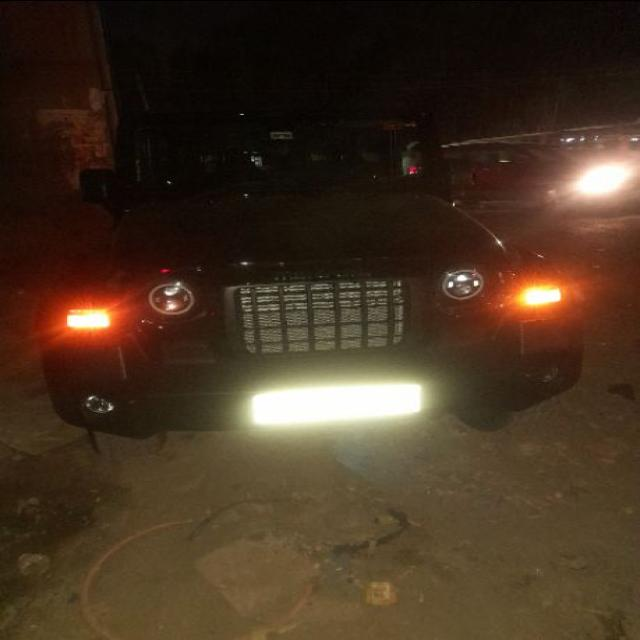license_plate: (223, 275, 413, 358)
